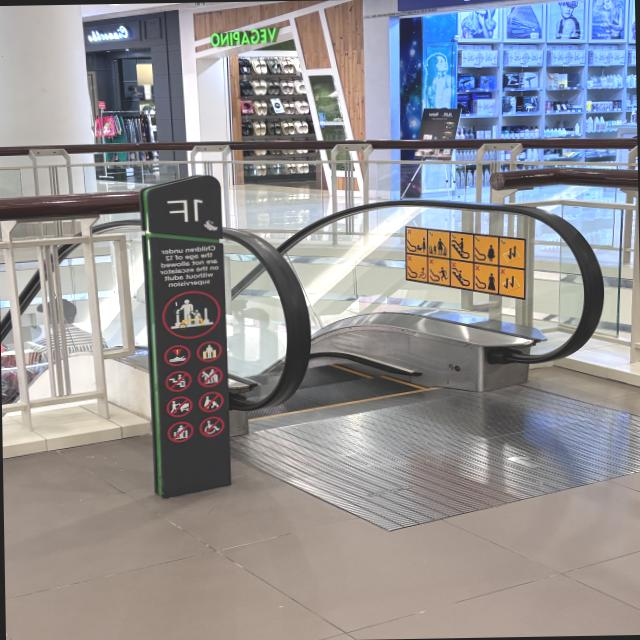escalator: (0, 199, 640, 543)
